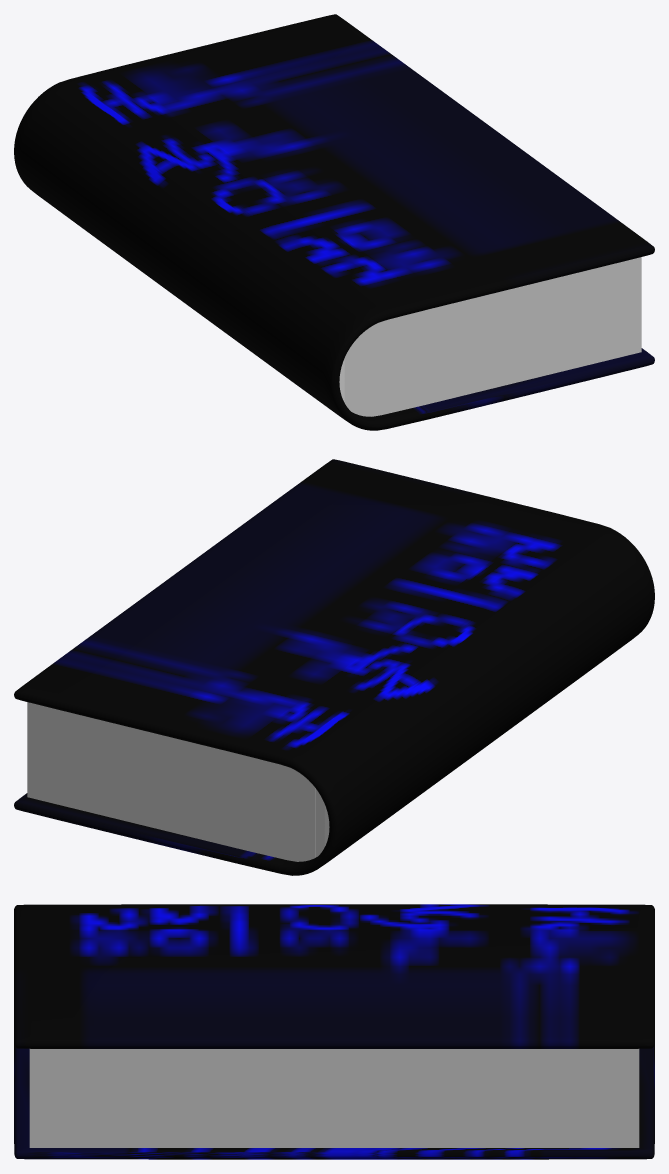
Rendered from Book.fbx.
The picture shows the model from 3 angles, top to bottom: view 1: azimuth 30°, elevation 25°; view 2: azimuth 150°, elevation 25°; view 3: azimuth 270°, elevation 25°; orthographic projection.
Parts seen in each view (by area): view 1: 书壳, 书本内页.012, 书本内页.013, 书本内页.014, 书本内页.005, 书本内页.010, 书本内页.011, 书本内页.015, 书本内页.016, 书本内页.017, 书本内页.022, 书本内页.023 (+28 smaller); view 2: 书壳, 书本内页.018, 书本内页.010, 书本内页.011, 书本内页.014, 书本内页.016, 书本内页.019, 书本内页.021, 书本内页.005, 书本内页.006, 书本内页.007, 书本内页.008 (+27 smaller); view 3: 书壳, 书本内页.003, 书本内页.004, 书本内页.006, 书本内页.008, 书本内页.010, 书本内页.012, 书本内页.014, 书本内页.016, 书本内页, 书本内页.001, 书本内页.005 (+29 smaller).
Part boxes in pixels (x1=…): 书壳: x1=14, y1=14, x2=654, y2=430; 书本内页.012: x1=355, y1=322, x2=641, y2=394; 书本内页.013: x1=355, y1=319, x2=641, y2=391; 书本内页.014: x1=355, y1=317, x2=641, y2=389; 书本内页.005: x1=355, y1=339, x2=641, y2=411; 书本内页.010: x1=355, y1=327, x2=641, y2=399; 书本内页.011: x1=355, y1=324, x2=641, y2=396; 书本内页.015: x1=355, y1=314, x2=641, y2=386; 书本内页.016: x1=355, y1=312, x2=641, y2=384; 书本内页.017: x1=355, y1=309, x2=641, y2=381; 书本内页.022: x1=355, y1=299, x2=641, y2=371; 书本内页.023: x1=355, y1=297, x2=641, y2=369; 书壳: x1=14, y1=459, x2=654, y2=875; 书本内页.018: x1=27, y1=752, x2=315, y2=824; 书本内页.010: x1=27, y1=772, x2=315, y2=844; 书本内页.011: x1=27, y1=769, x2=315, y2=842; 书本内页.014: x1=27, y1=762, x2=315, y2=834; 书本内页.016: x1=27, y1=757, x2=315, y2=829; 书本内页.019: x1=27, y1=749, x2=315, y2=821; 书本内页.021: x1=27, y1=747, x2=315, y2=819; 书本内页.005: x1=27, y1=784, x2=315, y2=857; 书本内页.006: x1=27, y1=782, x2=315, y2=854; 书本内页.007: x1=27, y1=779, x2=315, y2=852; 书本内页.008: x1=27, y1=777, x2=315, y2=849; 书壳: x1=14, y1=904, x2=654, y2=1159; 书本内页.003: x1=29, y1=1142, x2=639, y2=1145; 书本内页.004: x1=29, y1=1137, x2=639, y2=1140; 书本内页.006: x1=29, y1=1132, x2=639, y2=1135; 书本内页.008: x1=29, y1=1127, x2=639, y2=1130; 书本内页.010: x1=29, y1=1122, x2=639, y2=1125; 书本内页.012: x1=29, y1=1117, x2=639, y2=1120; 书本内页.014: x1=29, y1=1112, x2=639, y2=1115; 书本内页.016: x1=29, y1=1107, x2=639, y2=1110; 书本内页: x1=29, y1=1145, x2=639, y2=1147; 书本内页.001: x1=29, y1=1140, x2=639, y2=1142; 书本内页.005: x1=29, y1=1135, x2=639, y2=1137.
Bounding box in the file's own units: 678 × 240 × 1157.
